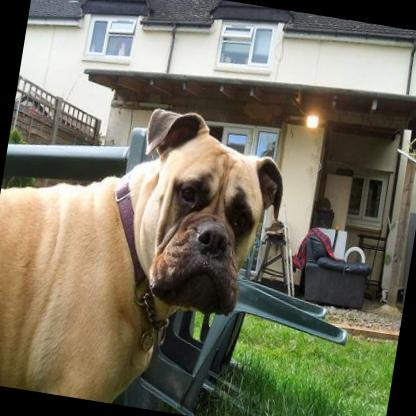bull_mastiff: (0, 82, 292, 416)
